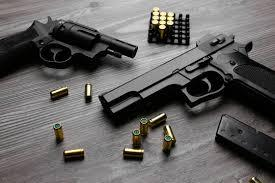gun: (98, 33, 261, 150), (0, 9, 141, 94)
